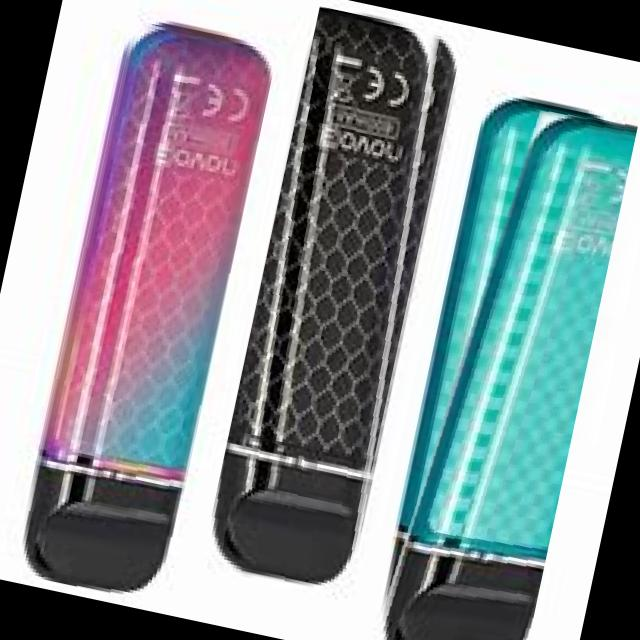Hazard: (199, 5, 468, 598), (11, 15, 277, 602), (367, 90, 637, 640)
